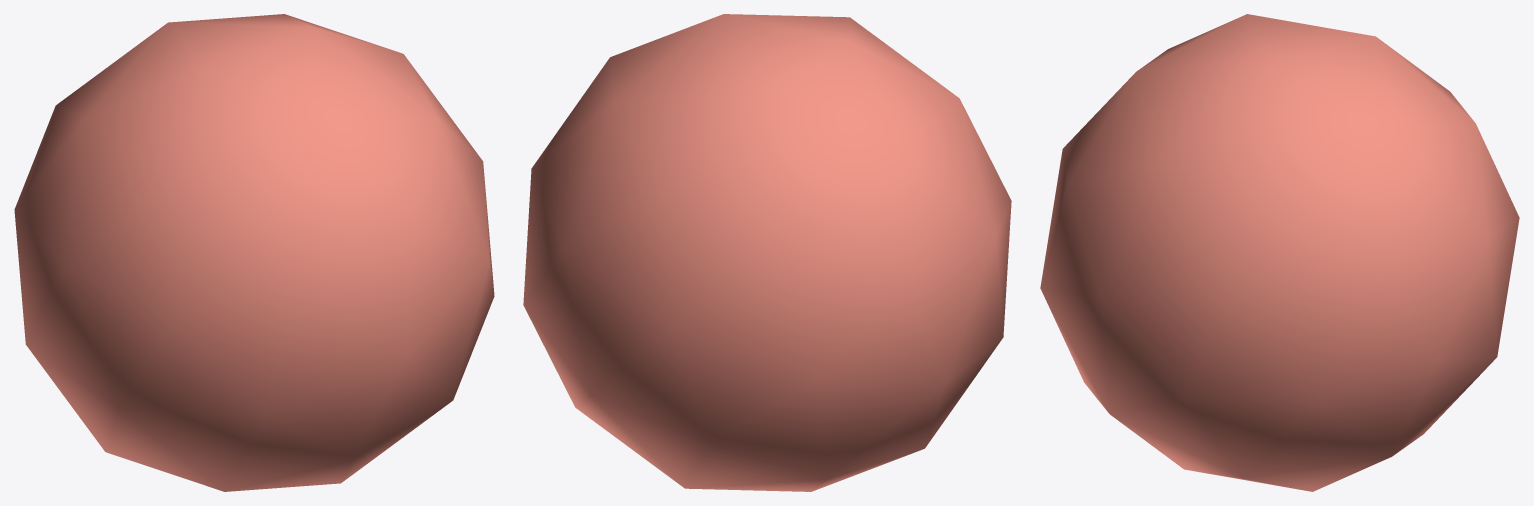
Rendered from apap_O_phenol.glb.
3 renders of one model, left to right at view 1: azimuth 30°, elevation 25°; view 2: azimuth 150°, elevation 25°; view 3: azimuth 270°, elevation 25°, orthographic. The views are drawn at different scales.
Parts seen in each view (by area): view 1: node-geom47.001; view 2: node-geom47.001; view 3: node-geom47.001.
Part boxes in pixels (box(x1,y1,x2,y2)): node-geom47.001: box(14, 14, 494, 491); node-geom47.001: box(523, 14, 1011, 491); node-geom47.001: box(1040, 14, 1519, 491).
Size of the model in its own units: 0.6433 by 0.6482 by 0.6594.
